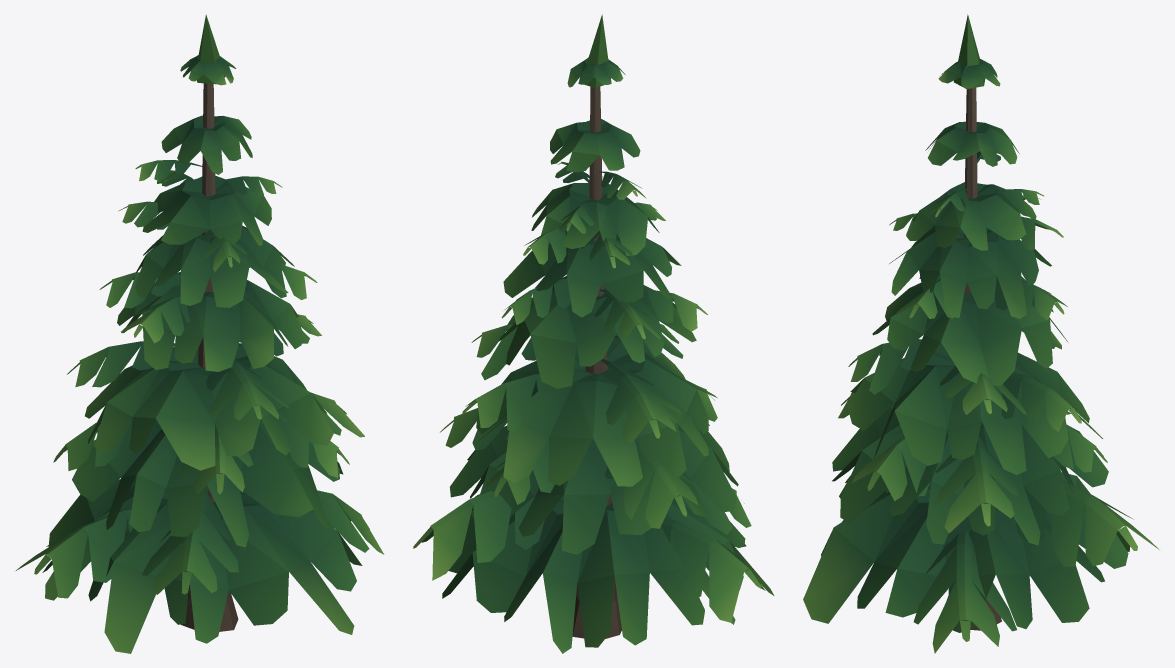
File: spruce_S_normal_std_open_s11.glb
3 views of the same model, side by side, from view 1: azimuth 30°, elevation 25°; view 2: azimuth 150°, elevation 25°; view 3: azimuth 270°, elevation 25° (orthographic).
Parts seen in each view (by area): view 1: Tree; view 2: Tree; view 3: Tree.
Part boxes in pixels (left/top/right/bottom): Tree: left=16, top=14, right=384, bottom=653; Tree: left=413, top=14, right=774, bottom=653; Tree: left=803, top=14, right=1159, bottom=653.
Size of what is drawn, in the model's own units: 2.22 by 3.95 by 2.13.
